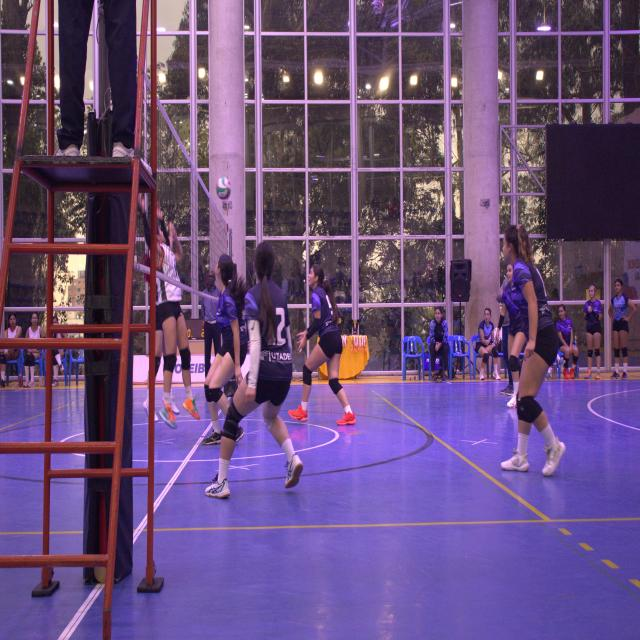volleyball: (217, 177, 231, 199)
